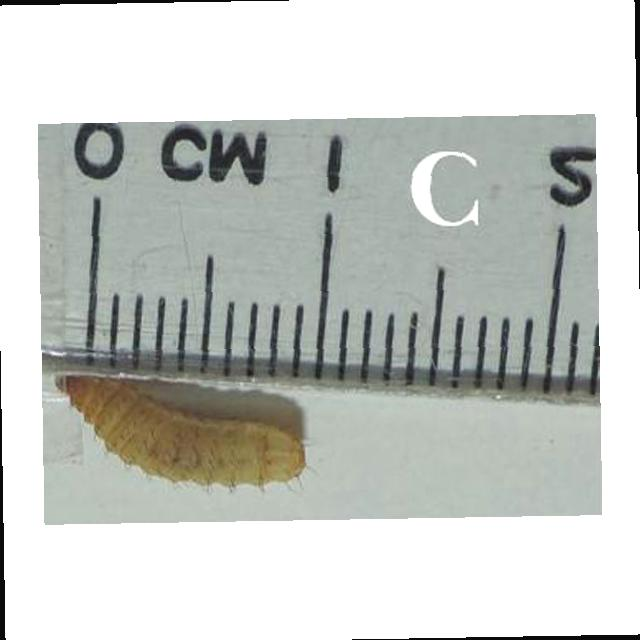Maggot: (49, 373, 311, 493)
